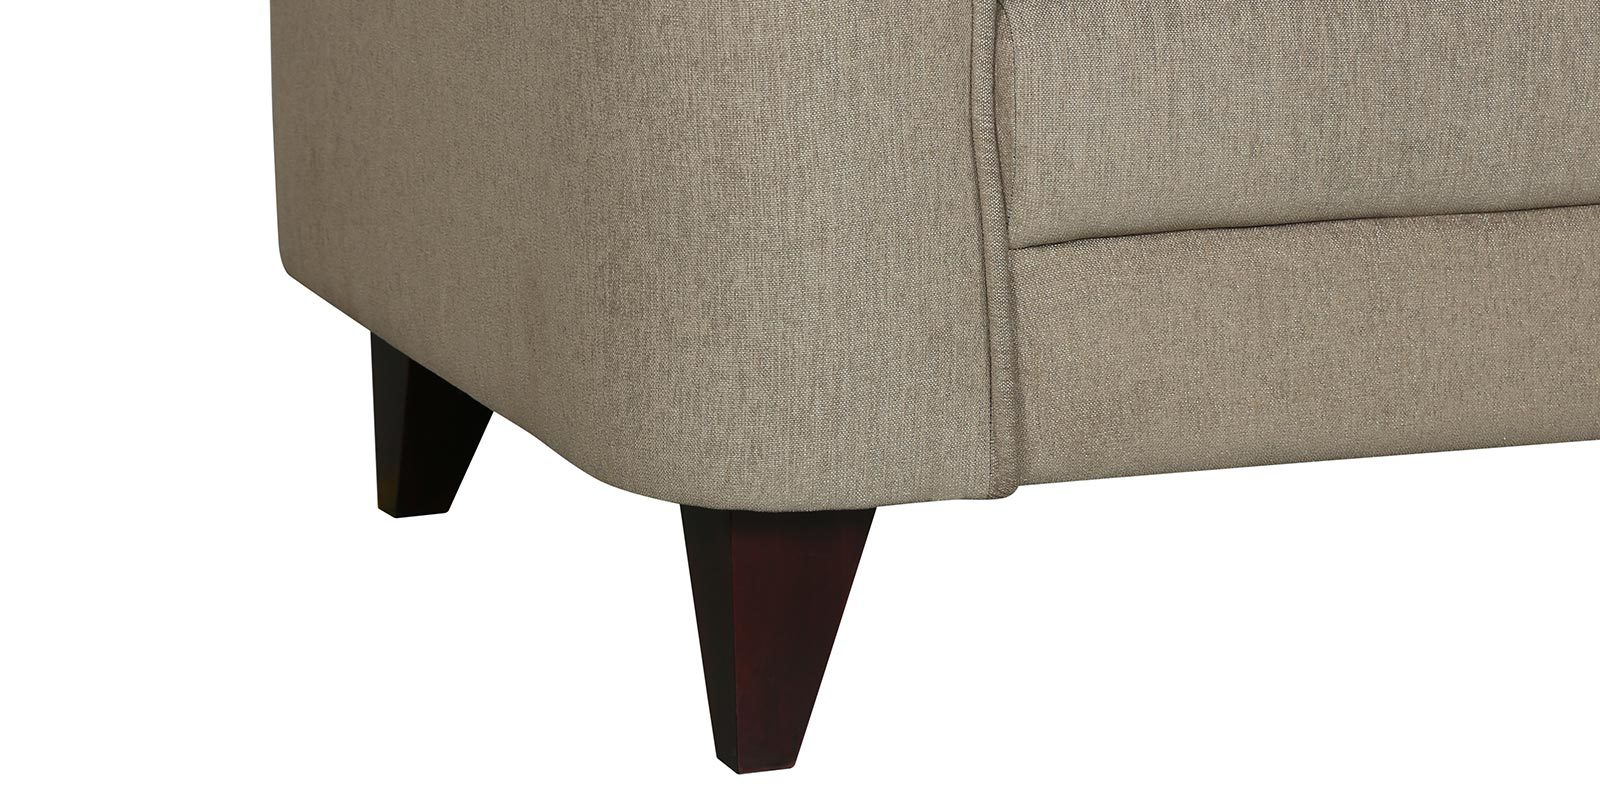Lara Three Seater Sofa in Sandy Brown Colour by CasaCraft: (270, 5, 1600, 773)
